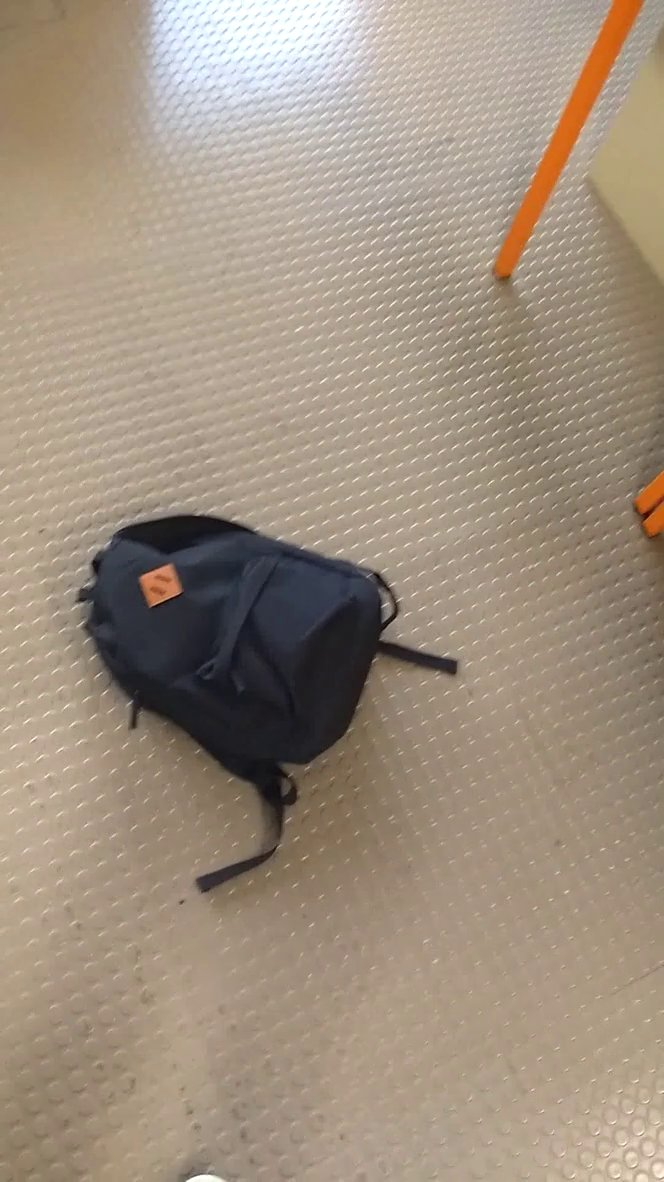bag: (74, 492, 486, 901)
